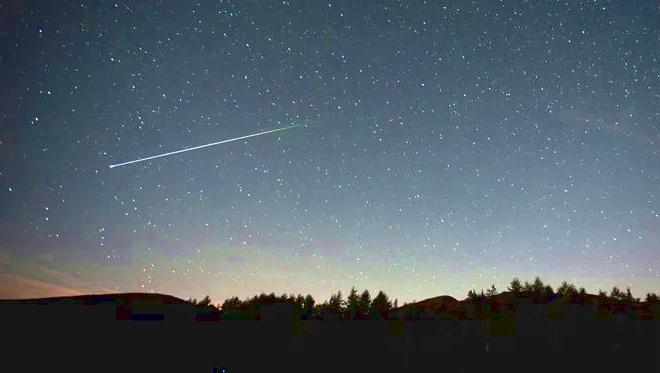meteorite: (103, 117, 314, 170)
